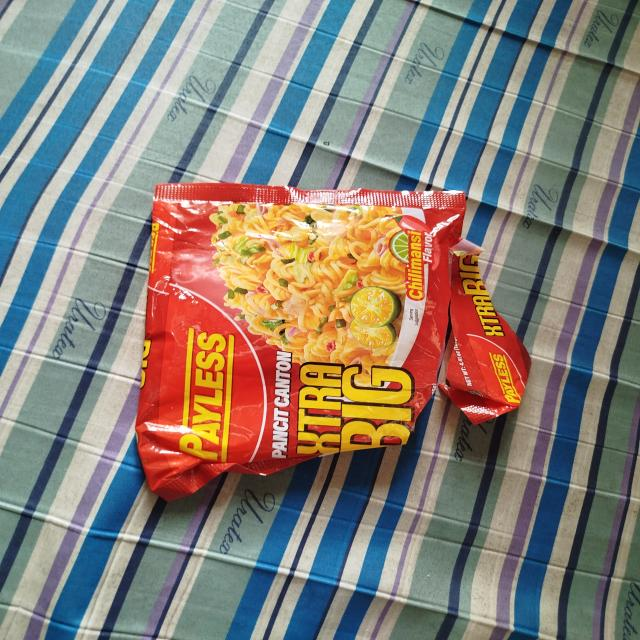residual: (124, 162, 567, 509)
